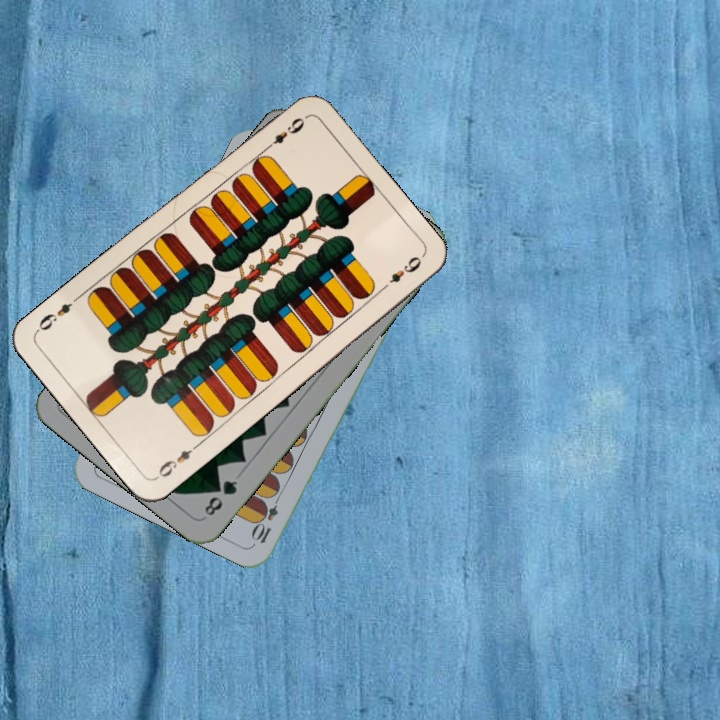E10: (249, 489, 284, 546)
E9: (152, 439, 202, 481), (259, 113, 308, 155)
G8: (200, 476, 241, 519)
